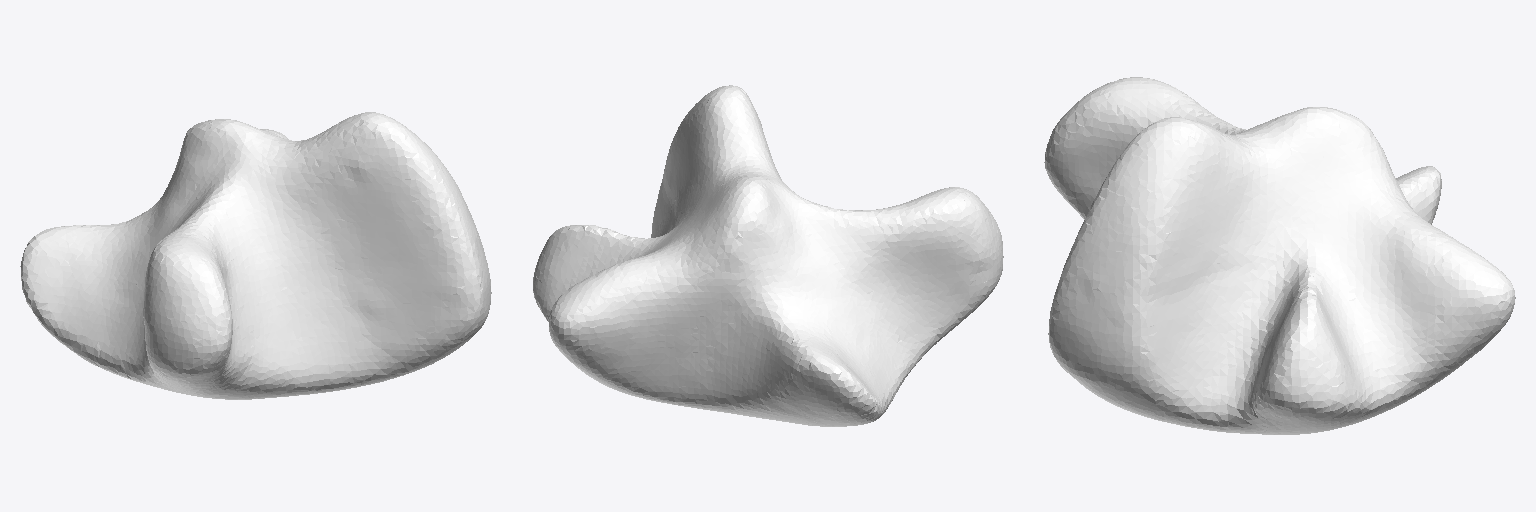
URDF robot description (feelie2):
<robot name="feelie2">
	<link name="_name">
		<visual>
			<origin rpy="0 0 0" xyz="0.000923878246959243 0.003944287974614423 0.0072585723493054505" />
			<geometry>
				<mesh filename="feelie2.obj" scale="0.001 0.001 0.001" />
			</geometry>
			<material name="texture">
				<color rgba="1.0 1.0 1.0 1.0" />
			</material>
		</visual>
		<collision>
			<geometry>
				<mesh filename="feelie2_vhacd.obj" scale="0.001 0.001 0.001" />
			</geometry>
		<origin rpy="0 0 0" xyz="0.000923878246959243 0.003944287974614423 0.0072585723493054505" /></collision>
		<inertial>
			<mass value="1.0" />
			<inertia ixx="1.0" ixy="0.0" ixz="0.0" iyy="1.0" iyz="0.0" izz="1.0" />
		</inertial>
	</link>
</robot>

--- What the picture shows (computed from the rendered views, not written in the file) ---
The picture shows the robot from 3 angles, left to right: view 1: azimuth 30°, elevation 25°; view 2: azimuth 150°, elevation 25°; view 3: azimuth 270°, elevation 25°; orthographic projection.
Robot: feelie2 — 1 links, 0 joints (none); root link _name; default pose: all joints at 0.
Visible links, largest first — view 1: _name; view 2: _name; view 3: _name.
Link boxes in pixels (<box>): _name: <box>20,112,491,399</box>; _name: <box>533,85,1003,426</box>; _name: <box>1044,77,1515,434</box>.
Size in the robot's own frame: 0.0933 by 0.0861 by 0.0614 metres.
Meshes: 1 distinct files referenced, 1 mesh visuals loaded (1 OBJ).
